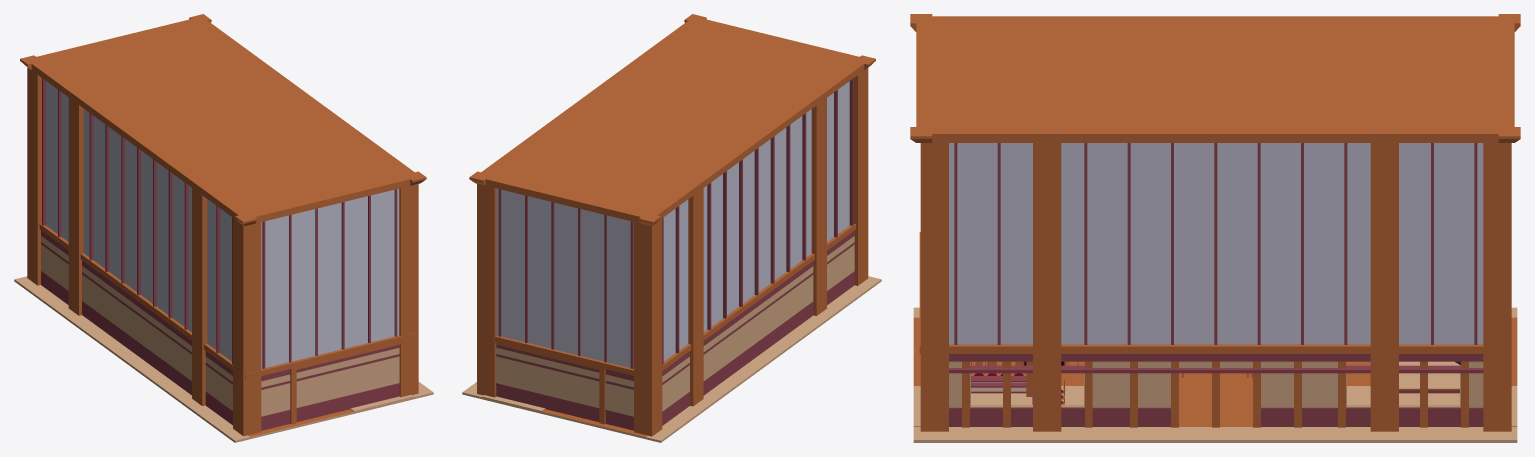
The model's file is Bar.fbx.
3 renders of one model, left to right at view 1: azimuth 30°, elevation 25°; view 2: azimuth 150°, elevation 25°; view 3: azimuth 270°, elevation 25°, orthographic. The views are drawn at different scales.
Visible parts, largest first — view 1: Cube.006, Cube.007, Cube.003, Cube.011, Cube.009, Cube.012, Cube.004; view 2: Cube.006, Cube.007, Cube.003, Cube.011, Cube.009, Cube.012, Cube.005; view 3: Cube.006, Cube.007, Cube.003, Cube.009, Cube.011, Cube.002, Cube.004, Cube.005, Cube.008, Cube.041, Cube.017.
Part boxes in pixels (box(x1,y1,x2,y2)): Cube.006: box(20, 14, 426, 379); Cube.007: box(27, 67, 418, 436); Cube.003: box(41, 230, 399, 430); Cube.011: box(42, 78, 232, 364); Cube.009: box(14, 276, 433, 442); Cube.012: box(262, 189, 397, 368); Cube.004: box(290, 342, 400, 424); Cube.006: box(469, 14, 875, 375); Cube.007: box(477, 68, 868, 436); Cube.003: box(496, 231, 854, 430); Cube.011: box(662, 78, 853, 364); Cube.009: box(462, 276, 881, 442); Cube.012: box(498, 189, 633, 368); Cube.005: box(495, 342, 605, 424); Cube.006: box(910, 14, 1520, 353); Cube.007: box(920, 143, 1511, 431); Cube.003: box(949, 354, 1483, 426); Cube.009: box(913, 307, 1517, 442); Cube.011: box(954, 143, 1477, 344); Cube.002: box(1130, 361, 1301, 427); Cube.004: box(962, 361, 1092, 427); Cube.005: box(1338, 361, 1468, 427); Cube.008: box(1399, 361, 1460, 393); Cube.041: box(971, 376, 1032, 404); Cube.017: box(970, 373, 1460, 407).
Size of the model in its own units: 671 by 712 by 1306.
